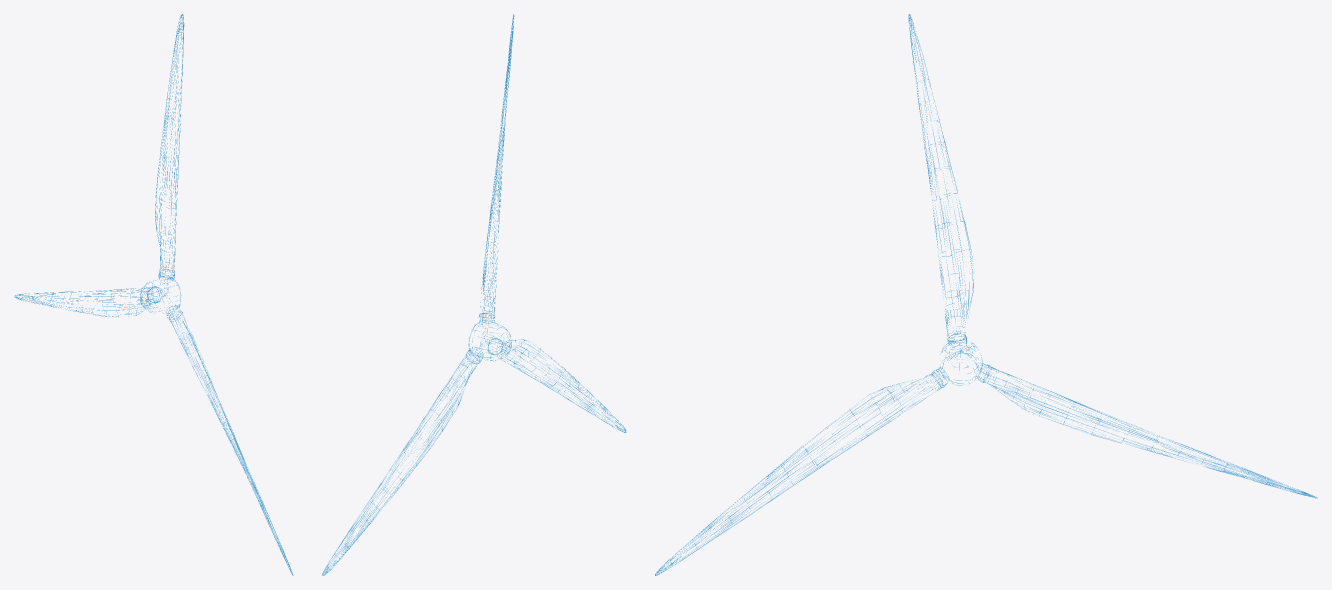
Rendered from yepian.glb.
3 renders of one model, left to right at view 1: azimuth 30°, elevation 25°; view 2: azimuth 150°, elevation 25°; view 3: azimuth 270°, elevation 25°, orthographic. The views are drawn at different scales.
Visible parts, largest first — view 1: 晶格_1; view 2: 晶格_1; view 3: 晶格_1.
Boxes of the visible parts, bbox=[...] form: 晶格_1: bbox=[14, 14, 293, 575]; 晶格_1: bbox=[322, 14, 626, 575]; 晶格_1: bbox=[655, 14, 1317, 575].
Bounding box in the file's own units: 15.71 × 219 × 235.
